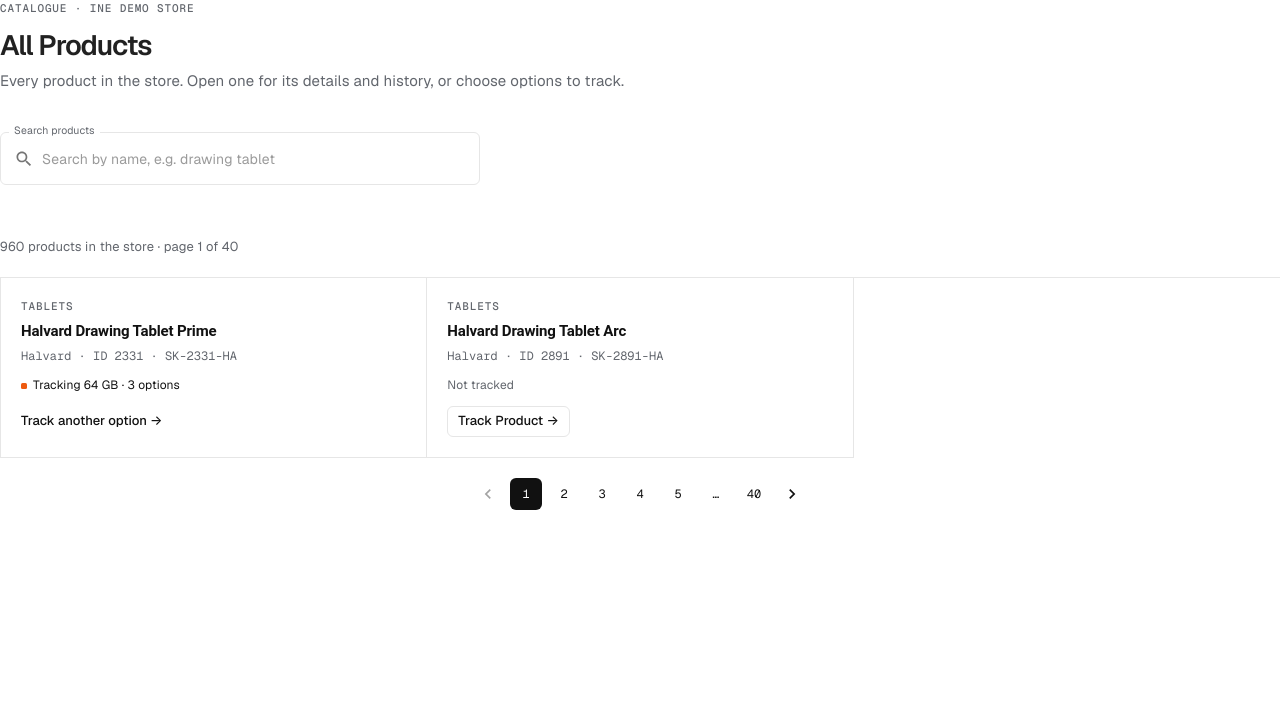
Test case: All Products › keeps the dialog open with the API’s message when tracking fails
The width and height of the screenshot is (1280, 720).
Click the button named "Track Product: Halvard Drawing Tablet Arc" at (509, 422), box [447, 406, 570, 437]
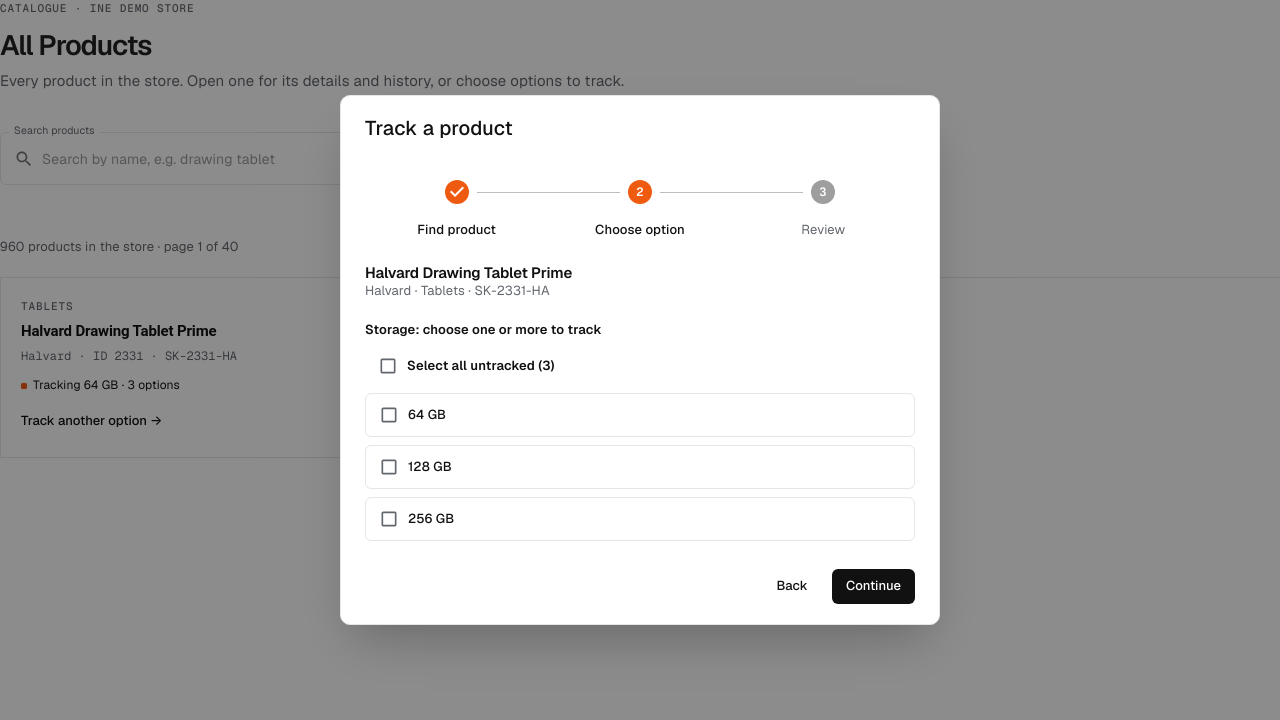
Click the checkbox labelled "256 GB" at (431, 519), box [365, 497, 915, 541]
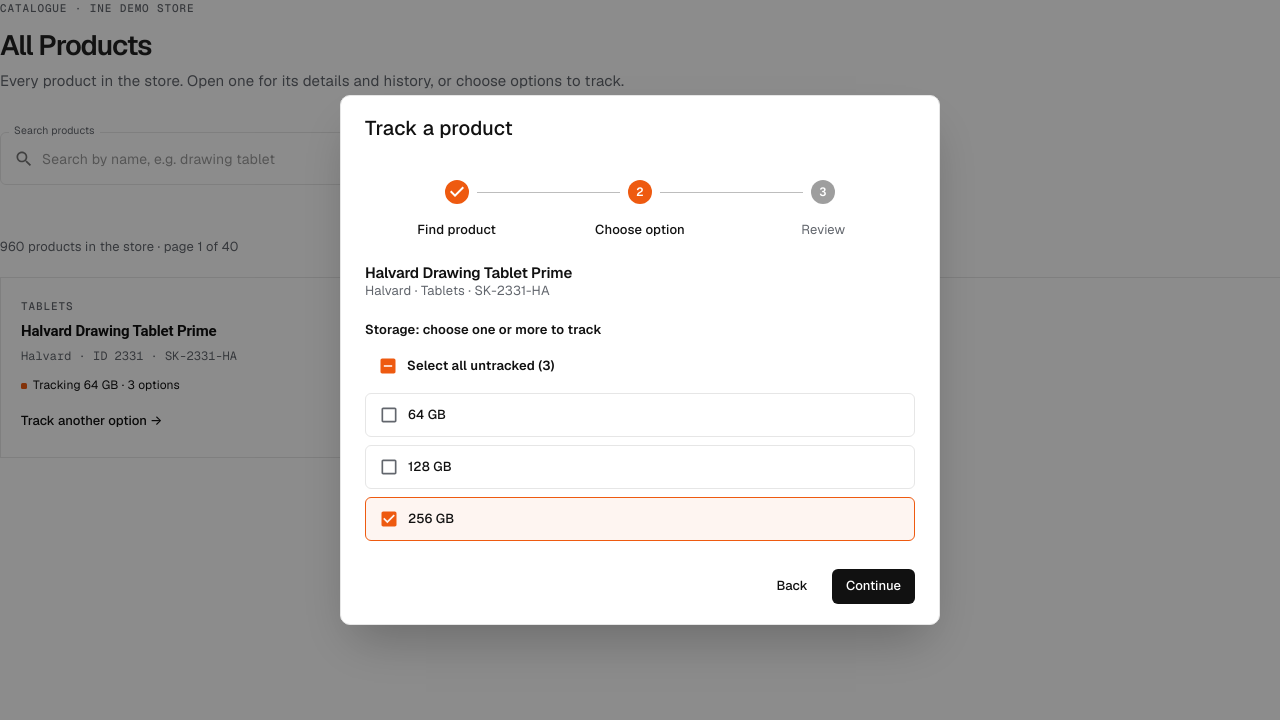
Click the button "Continue" at (874, 587), box [832, 569, 915, 604]
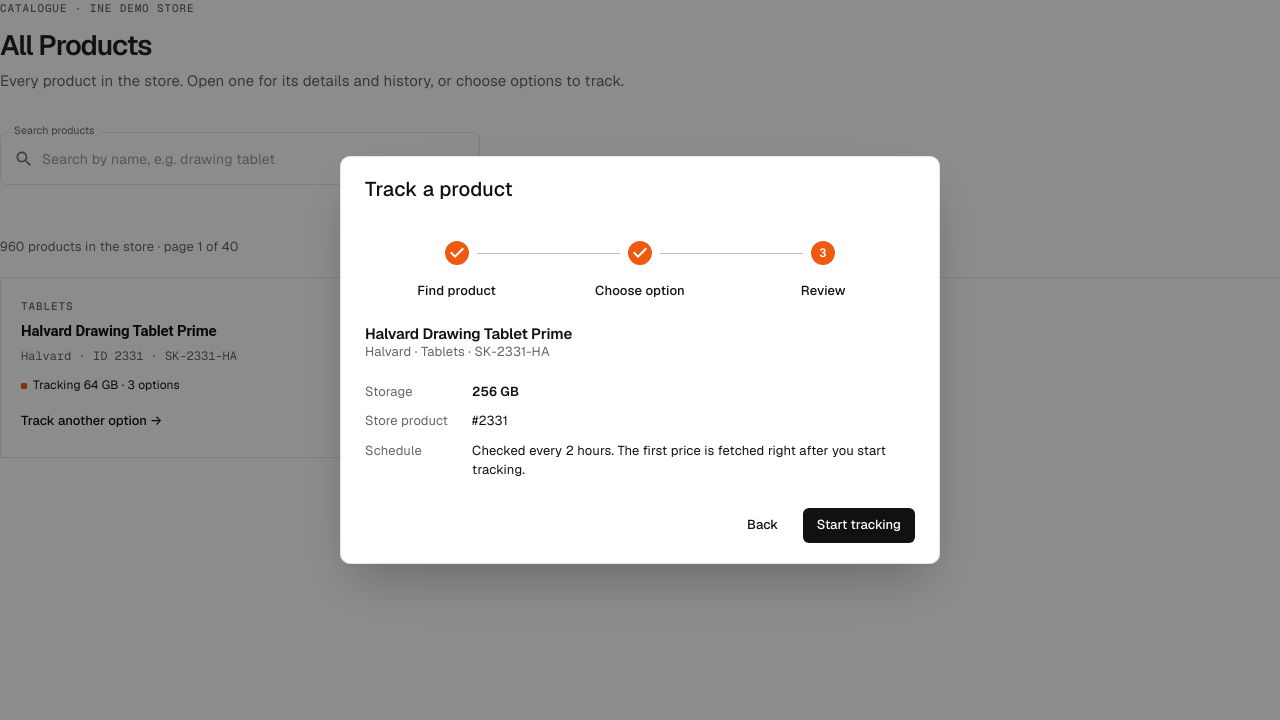
Click the button "Start tracking" at (859, 525), box [803, 508, 915, 543]
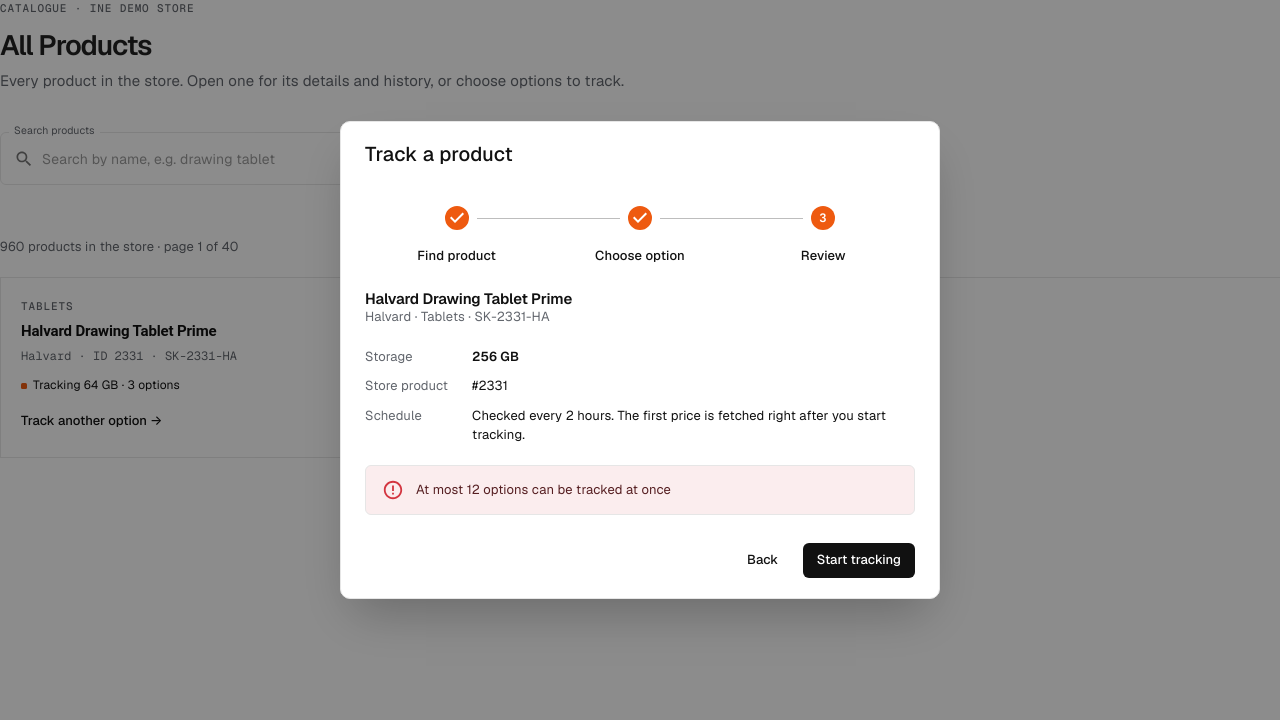
Result: the text "At most 12 options can be tracked at once" is shown at [416, 481, 671, 498]
